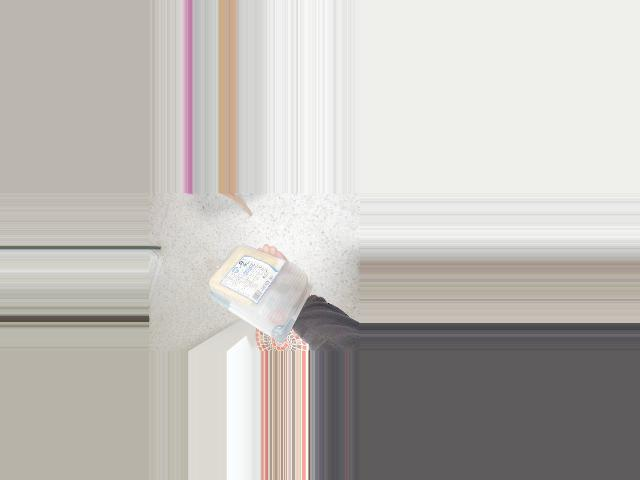cheese: (202, 244, 310, 335)
